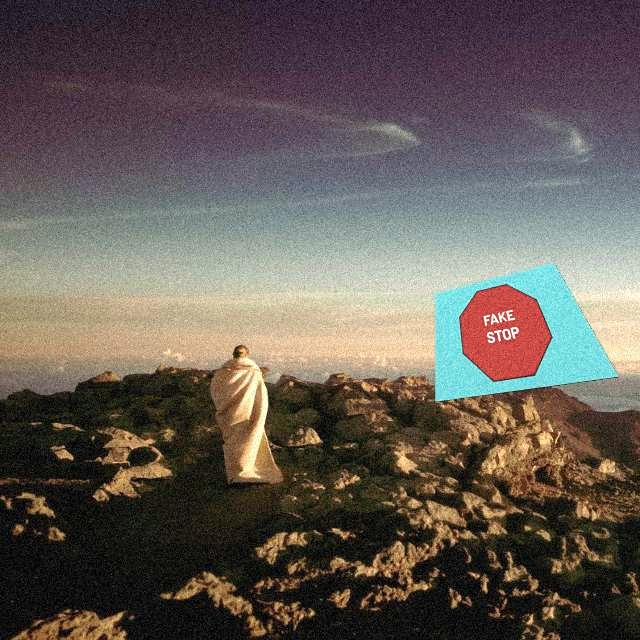FAKE_STOP: (449, 272, 567, 396)
